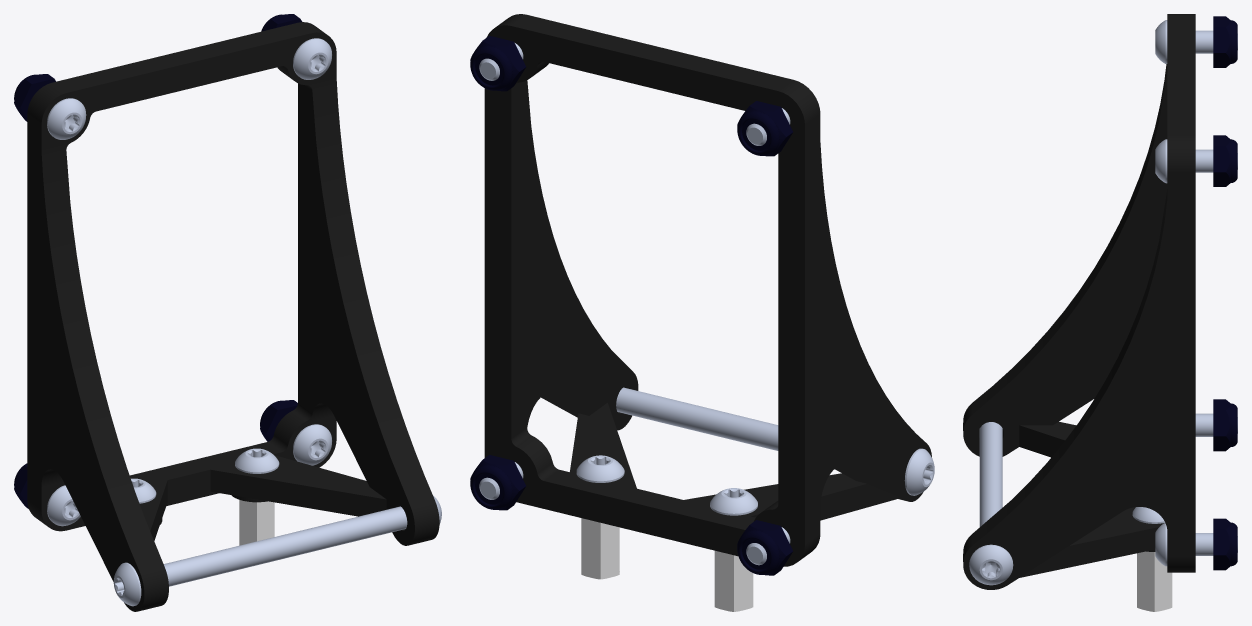
File: Vertical Tracker Mount.fbx
3 renders of one model, left to right at view 1: azimuth 30°, elevation 25°; view 2: azimuth 150°, elevation 25°; view 3: azimuth 270°, elevation 25°, orthographic. The views are drawn at different scales.
Parts seen in each view (by area): view 1: Body1 (×10), Body2; view 2: Body1 (×9), Body2 (×2); view 3: Body1 (×12), Body2.
Boxes of the visible parts, <box> form: Body1 (×10): <box>14,22,441,611</box>; Body2: <box>239,500,274,545</box>; Body1 (×9): <box>470,14,934,575</box>; Body2 (×2): <box>581,518,753,611</box>; Body1 (×12): <box>963,14,1237,589</box>; Body2: <box>1137,551,1172,611</box>.
Bounding box in the file's own units: 2.57 × 3.9 × 1.95.
